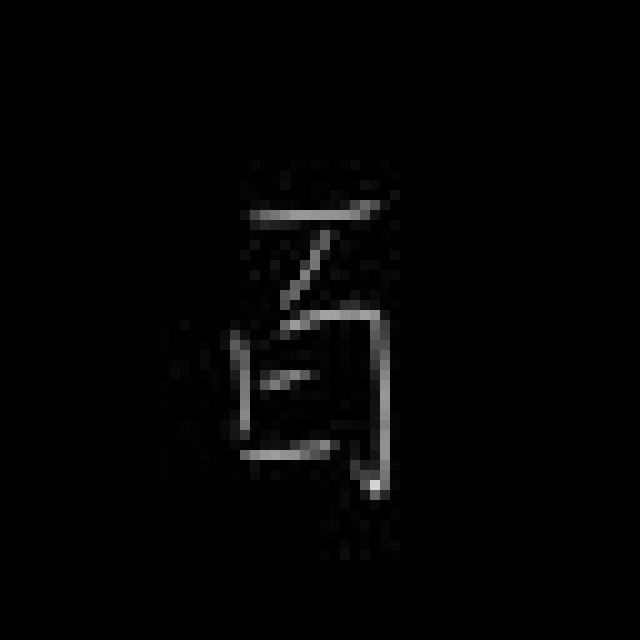100 -a hundred-: (210, 192, 405, 505)
